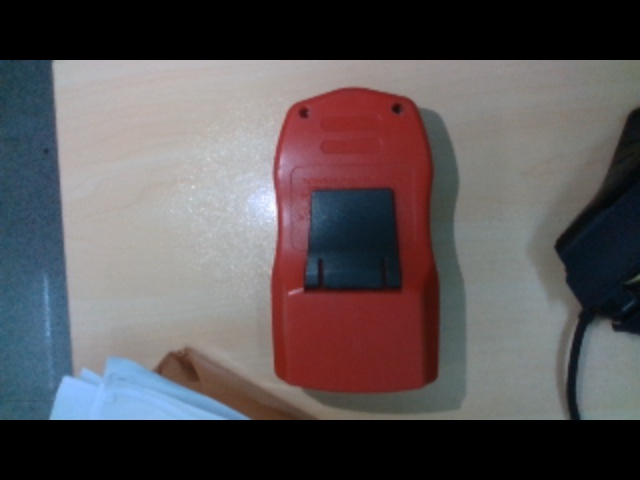Multimeter: (270, 83, 441, 388)
Screw holes: (298, 107, 311, 121), (392, 102, 405, 115)
